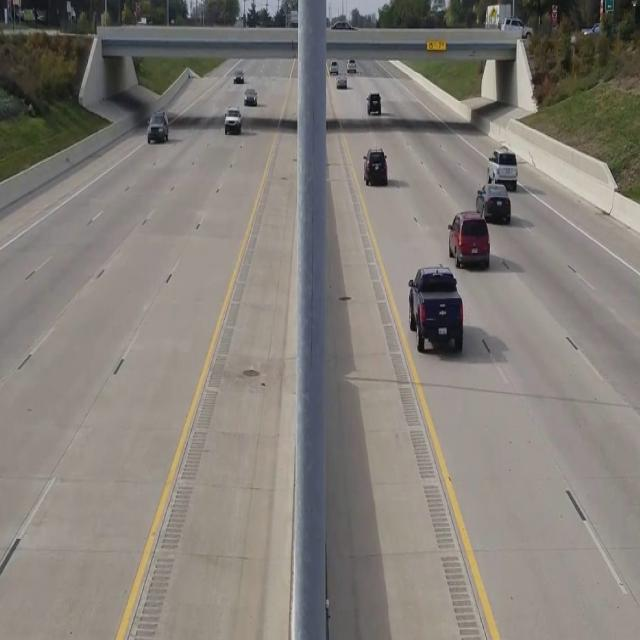car: (363, 147, 387, 185), (146, 110, 168, 142), (224, 106, 242, 134), (367, 92, 380, 114)
